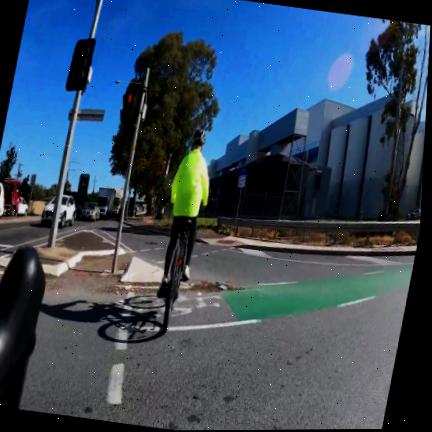Green_Bike_Lane: (168, 264, 413, 330), (118, 295, 164, 334)
